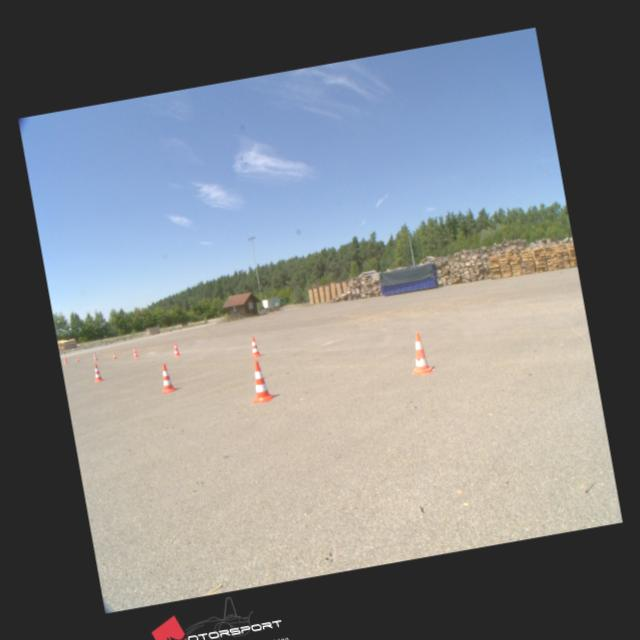large_orange_cone: (404, 330, 434, 375), (245, 358, 273, 402), (157, 362, 176, 392), (248, 336, 260, 356), (91, 363, 103, 381), (170, 342, 180, 356), (130, 346, 138, 357), (62, 355, 68, 364), (92, 352, 98, 361)
orange_cone: (112, 352, 116, 359), (75, 357, 79, 362)
